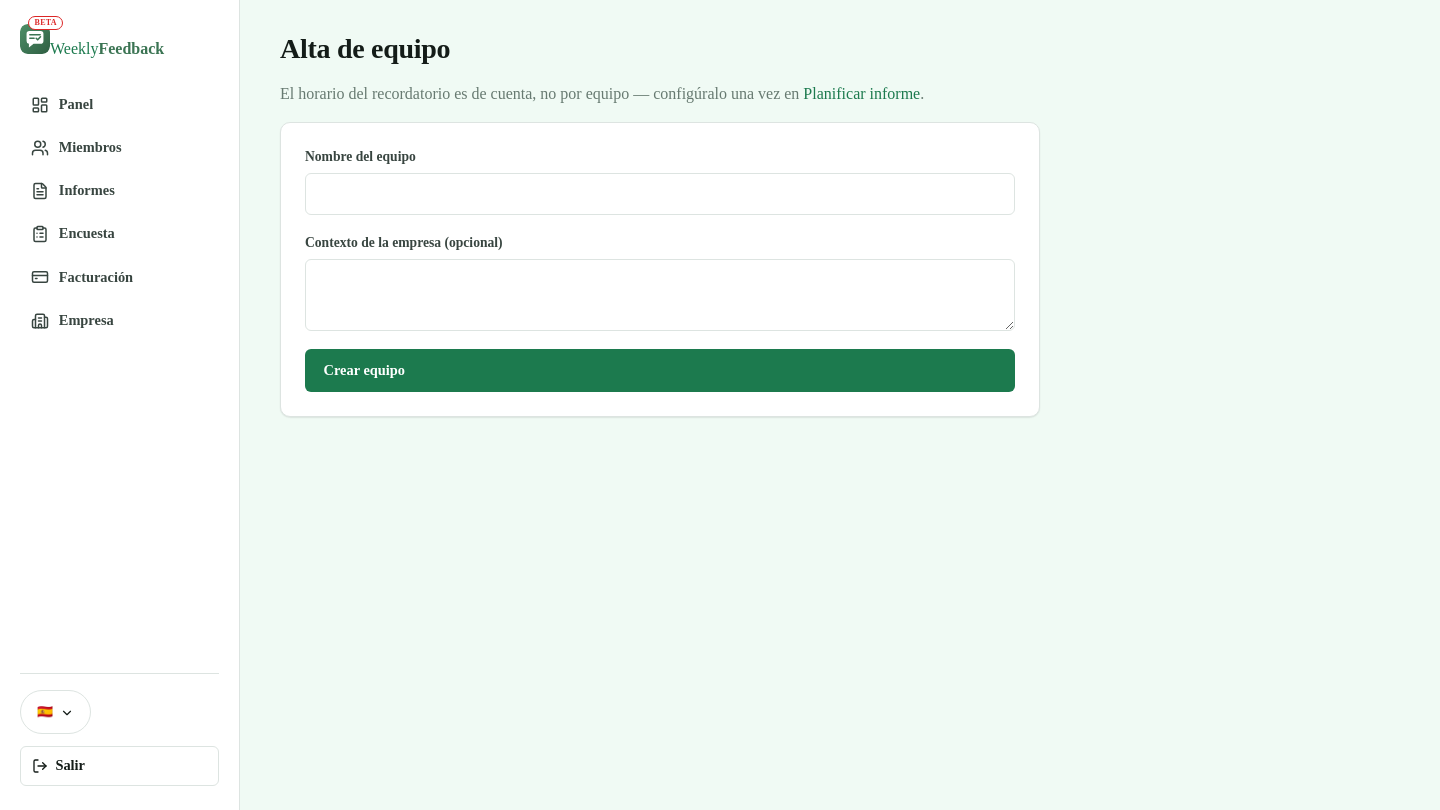
Test: OnboardingPage — paso 2: alta de miembros del equipo recién creado › añadir un miembro lo suma a la lista y limpia nombre/contacto, pero no el canal
Type "Producto" into the field labelled "Nombre del equipo" at (660, 194), box [305,173,1015,215]
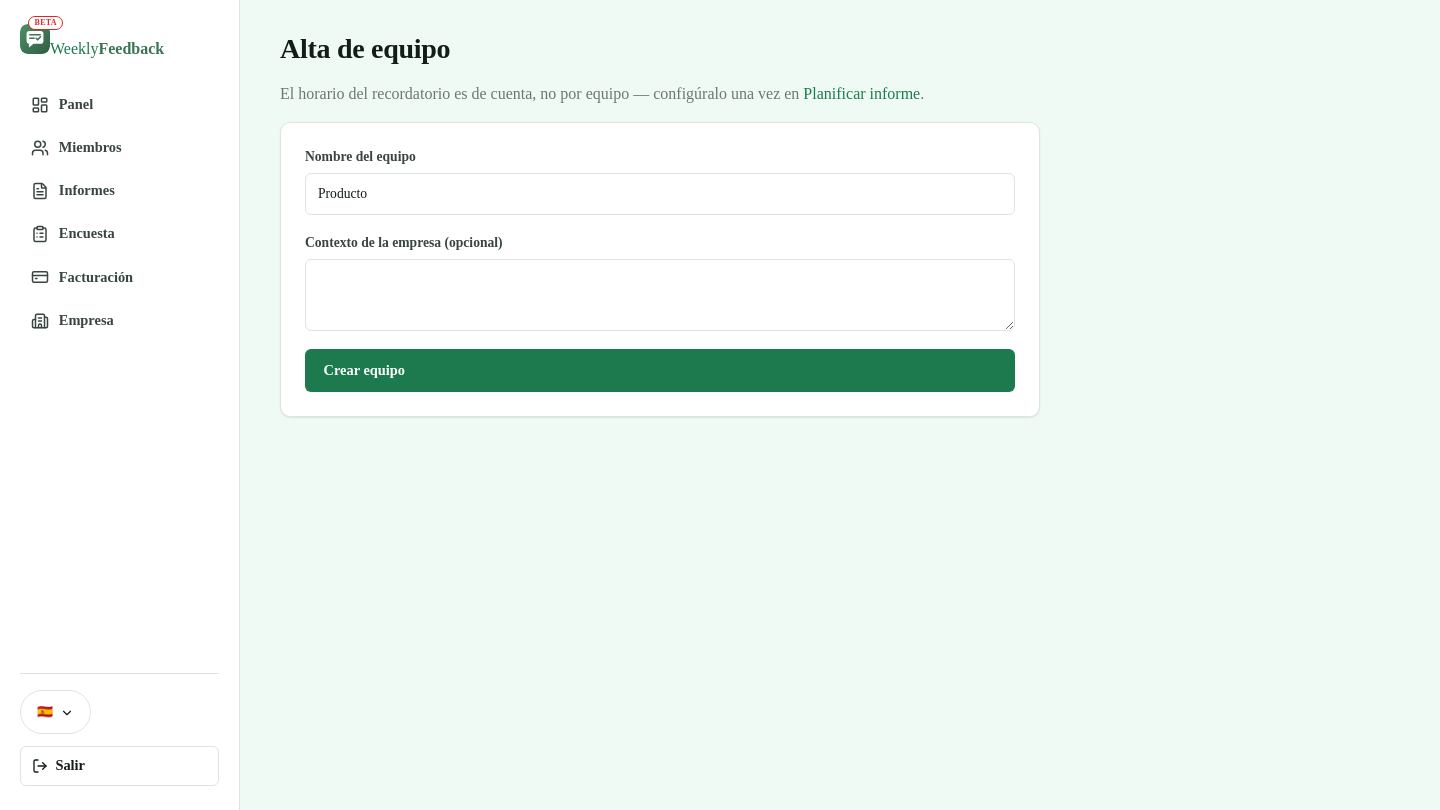
Click the button "Crear equipo" at (364, 370), box [305,349,1015,392]
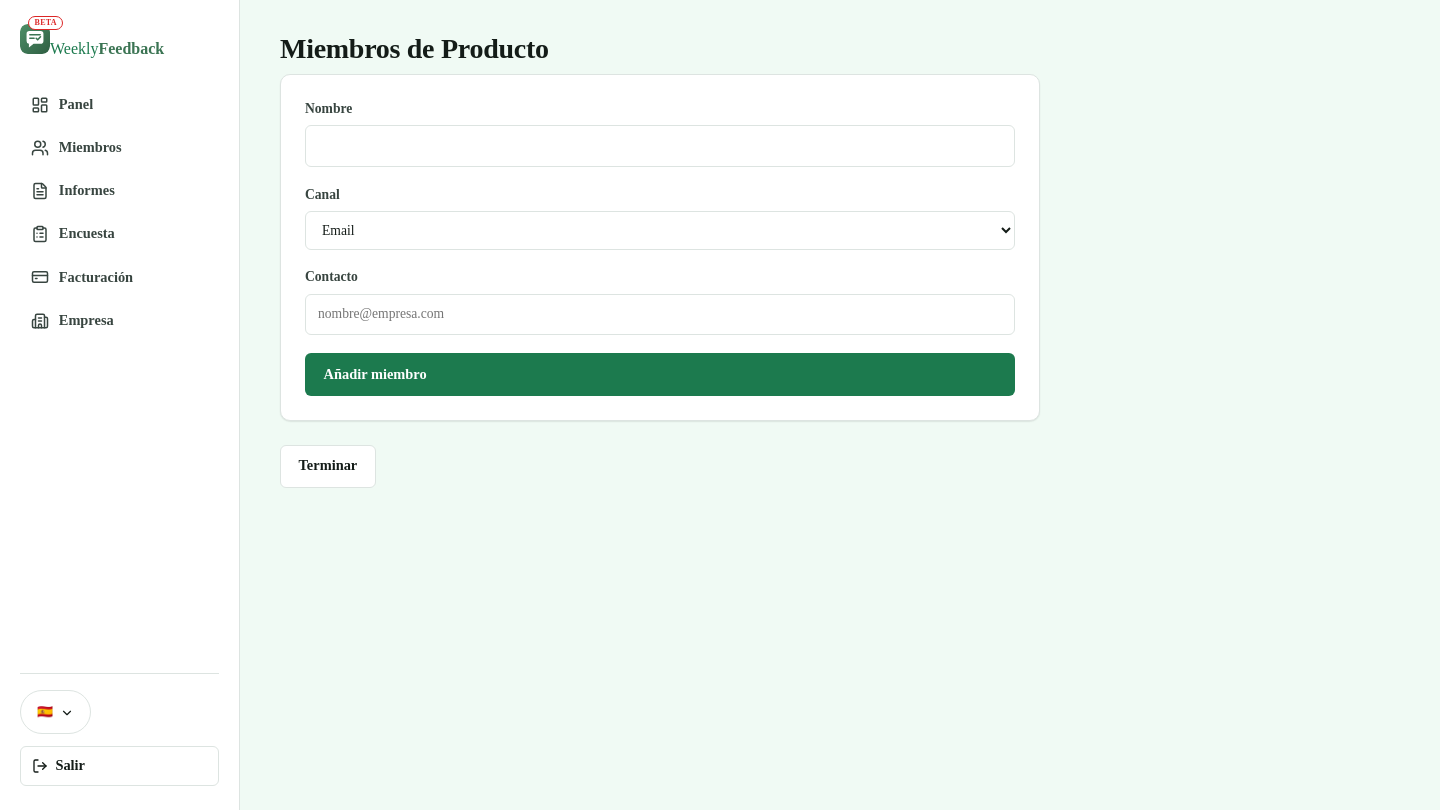
Type "Ana" into the field labelled "Nombre" at (660, 146), box [305,125,1015,167]
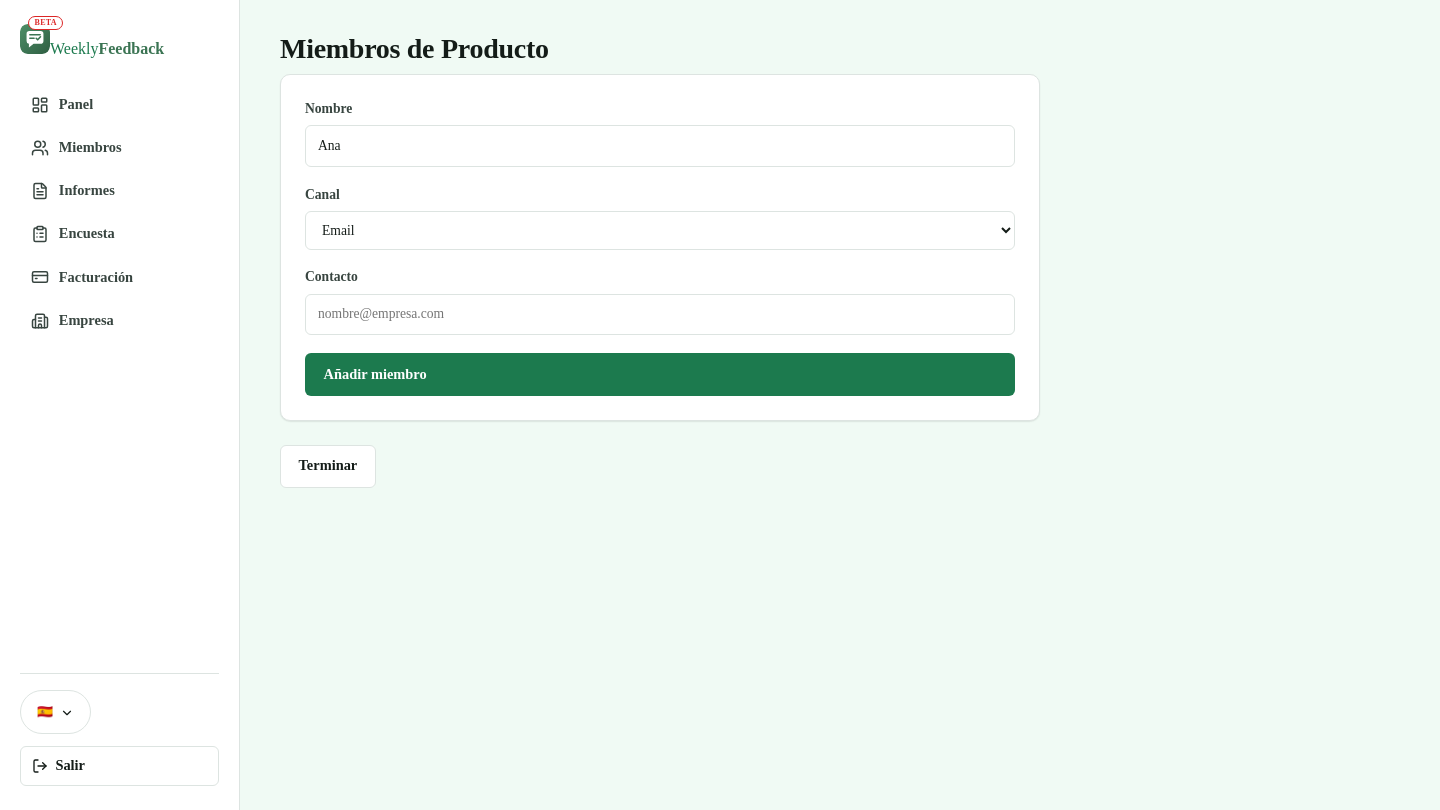
Type "ana@example.com" into the field with placeholder "nombre@empresa.com" at (660, 315), box [305,294,1015,336]
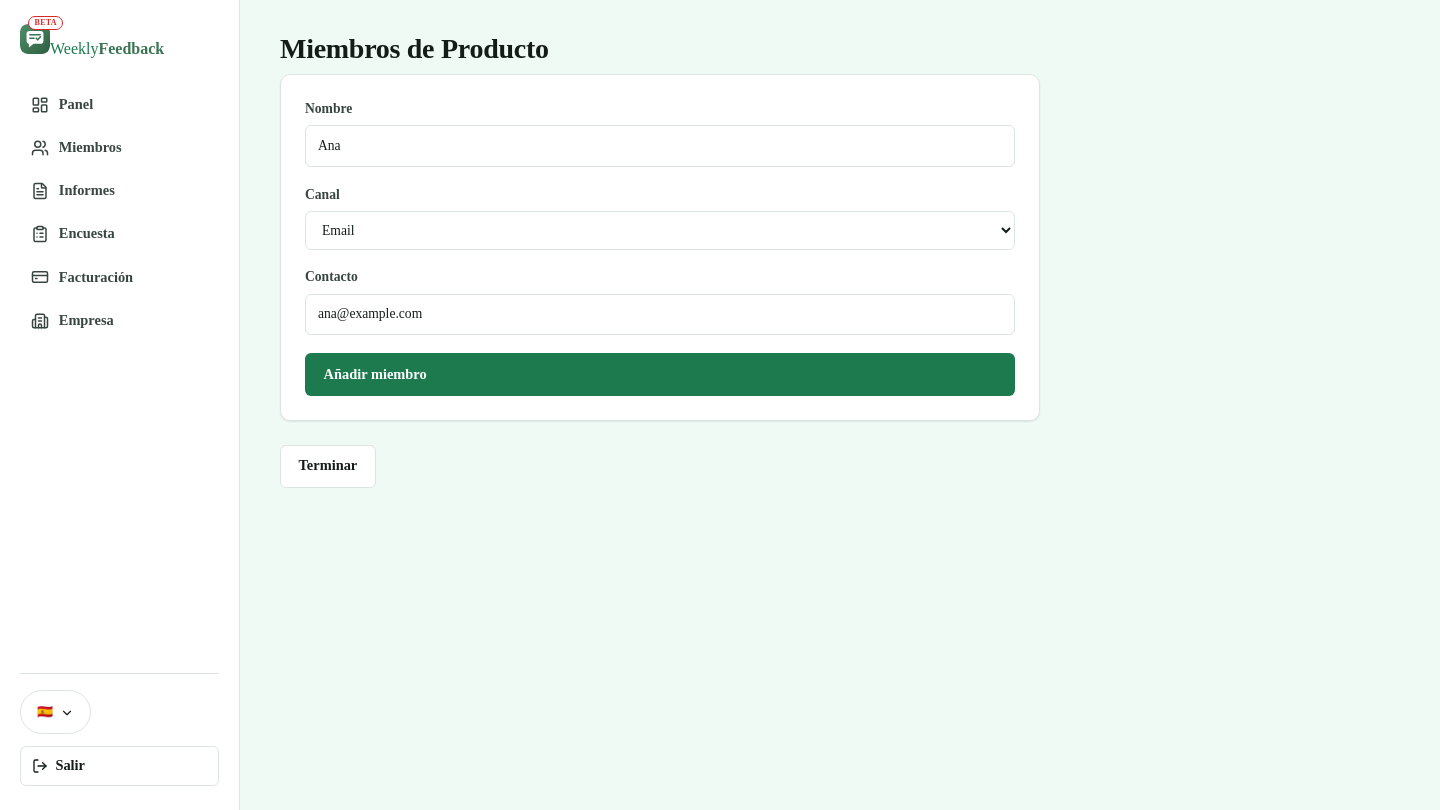
Click the button "Añadir miembro" at (375, 374), box [305,353,1015,396]
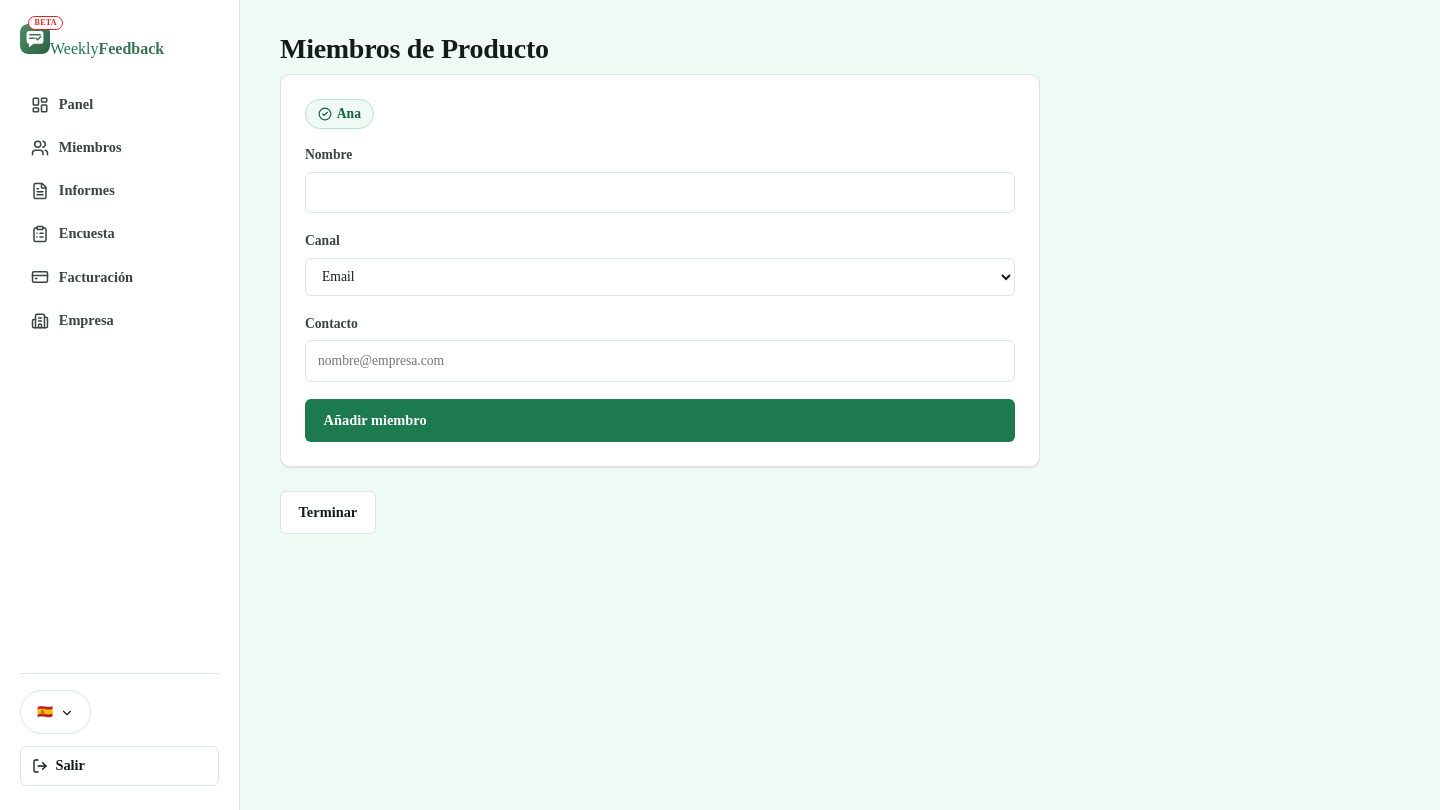
Expected: the list item "Ana" is shown, [305,99,374,129]
Expected: the field labelled "Nombre" is empty, [305,172,1015,213]
